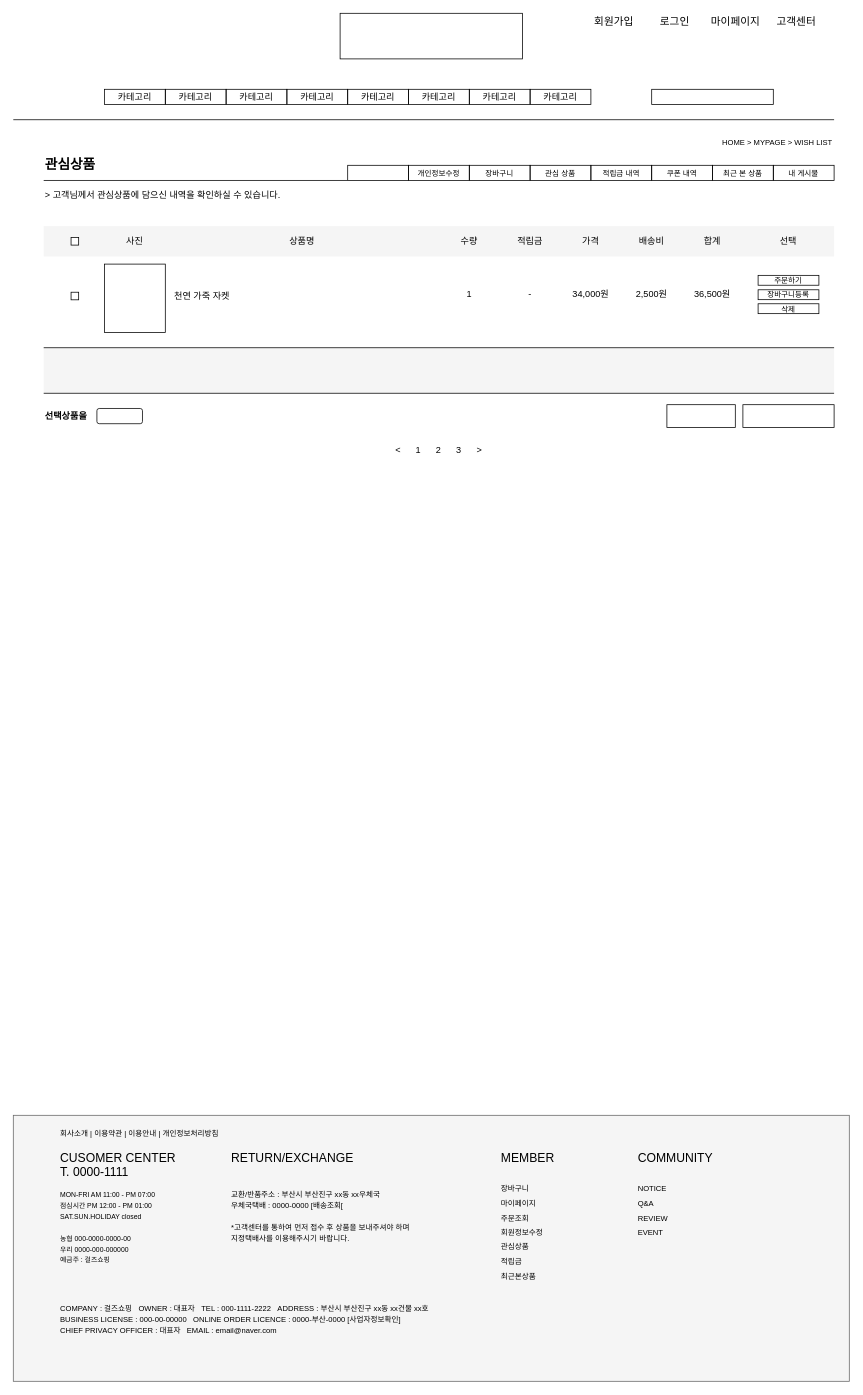
Image size: 863x1395. Some labels were removed from this diagram. Each missing label, with the box of its shape:
LOGO: (339, 13, 522, 59)
검색창: (651, 89, 773, 104)
관심상품 비우기: (742, 404, 834, 428)
구매내역: (347, 165, 408, 180)
삭제하기: (96, 408, 142, 424)
상품구매금액 34,000 원 + 배송비 2,500 원 = 합계 : 36,500원: (43, 347, 834, 393)
전체상품주문: (666, 404, 735, 428)
